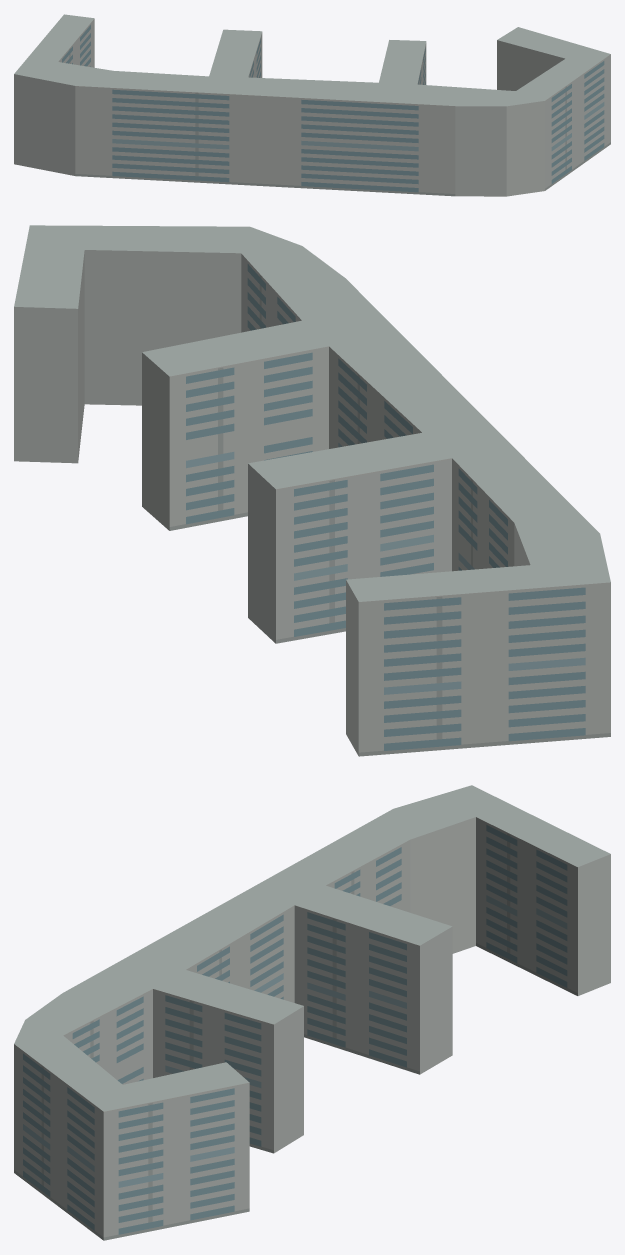
Rendered from residential-42d13ee8-ce44-47c5-a509-f797b2f67fdc.glb.
3 renders of one model, top to bottom at view 1: azimuth 30°, elevation 25°; view 2: azimuth 150°, elevation 25°; view 3: azimuth 270°, elevation 25°, orthographic. The views are drawn at different scales.
Parts seen in each view (by area): view 1: residential-42d13ee8-ce44-47c5-a509-f797b2f67fdc.tmp; view 2: residential-42d13ee8-ce44-47c5-a509-f797b2f67fdc.tmp; view 3: residential-42d13ee8-ce44-47c5-a509-f797b2f67fdc.tmp.
Boxes of the visible parts, x1,y1,x2,y2 form: residential-42d13ee8-ce44-47c5-a509-f797b2f67fdc.tmp: (14, 14, 610, 196); residential-42d13ee8-ce44-47c5-a509-f797b2f67fdc.tmp: (14, 225, 610, 756); residential-42d13ee8-ce44-47c5-a509-f797b2f67fdc.tmp: (14, 785, 610, 1240).
Bounding box in the file's own units: 185 × 34 × 143.
